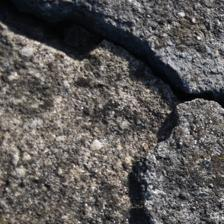Crack: (136, 33, 224, 166), (70, 56, 122, 165)
